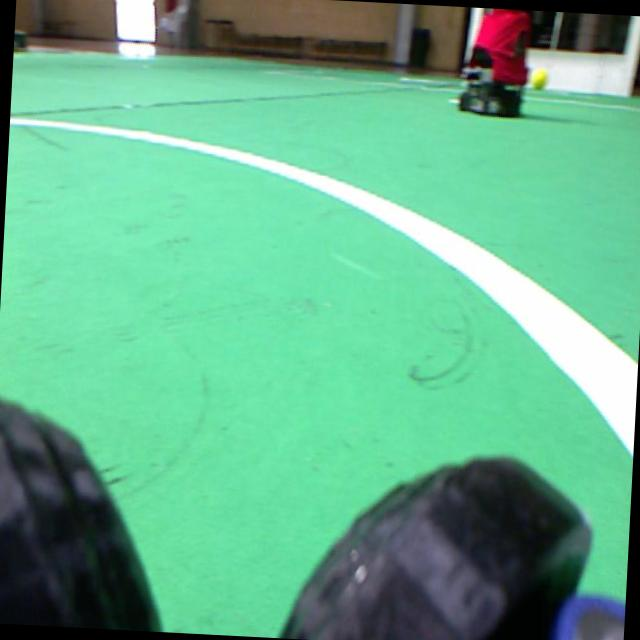ball: (531, 68, 546, 89)
goal: (622, 16, 640, 95)
